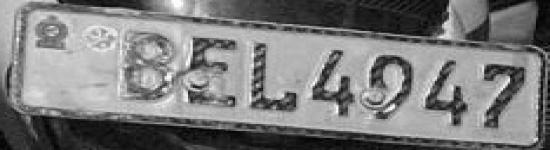4: (300, 40, 359, 122), (420, 50, 472, 132)
7: (471, 56, 531, 134)
9: (115, 28, 180, 107), (360, 49, 418, 126)
E: (182, 30, 240, 110)
L: (244, 35, 300, 117)
